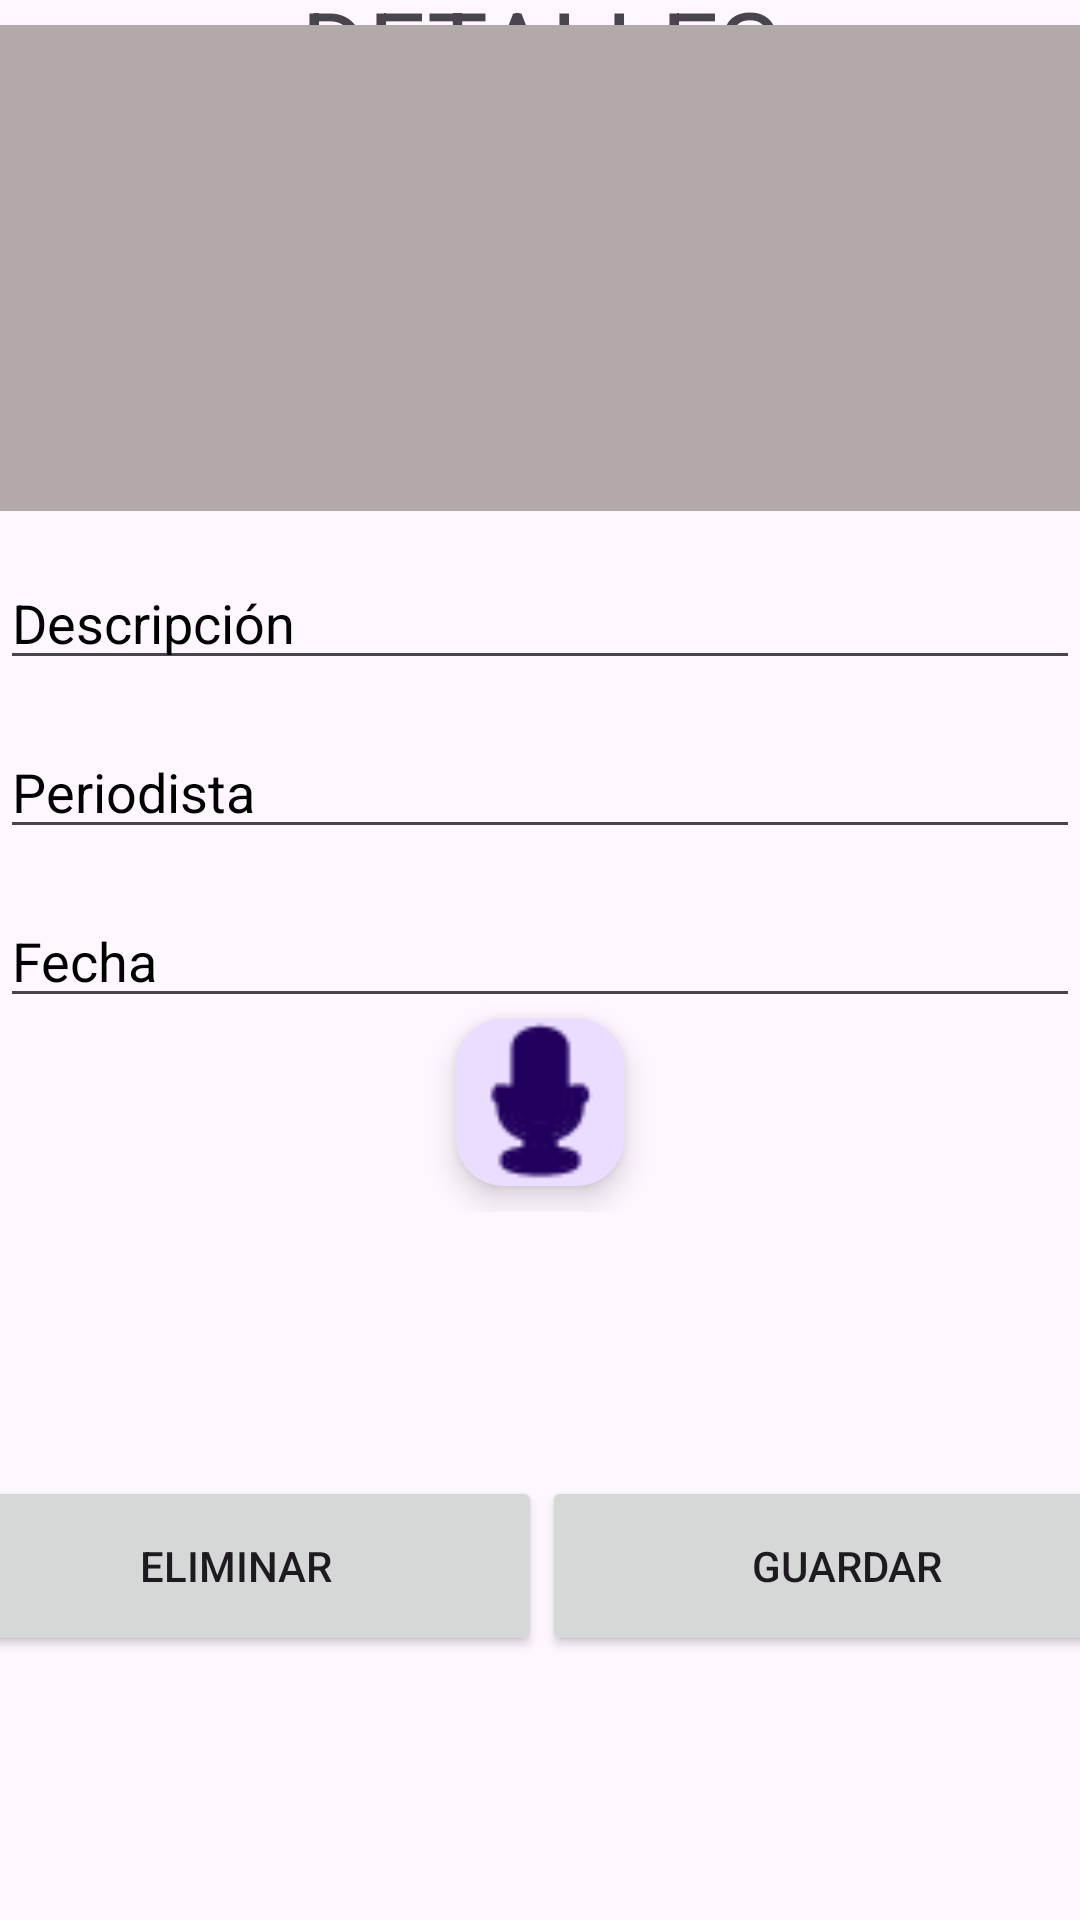

Screen size 1080 x 1920. Icon name, then its center in pixels as [x,y]:
presence audio busy: [540,1104]
